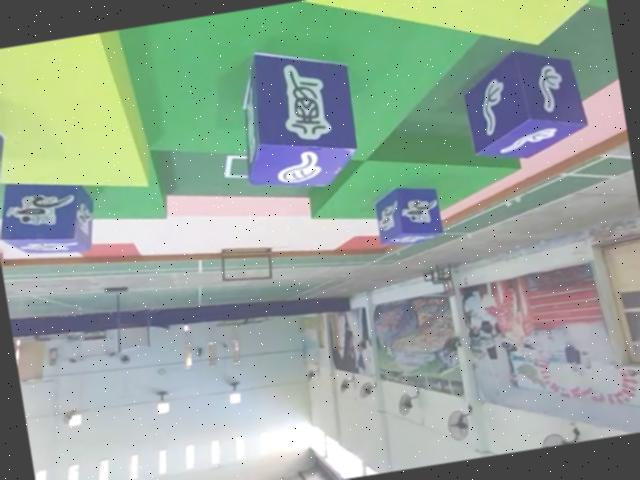R1 Blue: (0, 166, 100, 263), (371, 178, 445, 247), (0, 76, 16, 231)
R2 Fake Blue: (223, 35, 360, 197)
R2 Real Blue: (458, 39, 593, 165)
